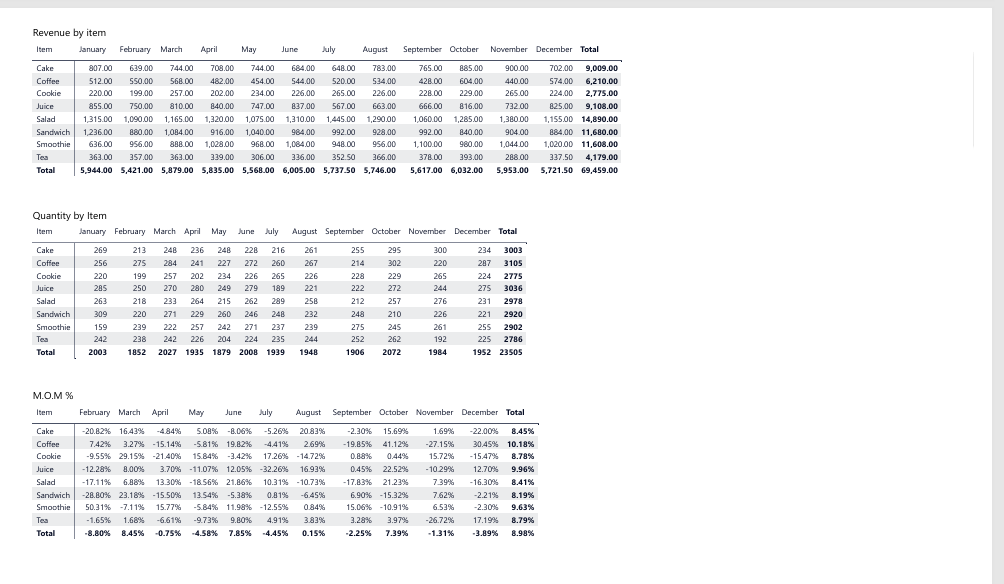

The page's visual inventory and layout, read from the dashboard file:
{"tool":"powerbi","page":{"name":"Page 2","canvas":[1280,720],"ordinal":1},"visuals":[{"type":"pivotTable","title":"Revenue by item","fields":{"Values":["Sum(cafe sales.total_spent)"],"Rows":["cafe sales.Item"],"Columns":["cafe sales.transaction_date.Variation.Date Hierarchy.Month"]},"box":[20.5,0,986.3,240],"z":0},{"type":"pivotTable","title":"M.O.M %","fields":{"Rows":["cafe sales.Item"],"Columns":["cafe sales.transaction_date.Variation.Date Hierarchy.Month"],"Values":["cafe sales.Sum of total_spent MoM%"]},"box":[20.5,484.4,986.3,235.6],"z":1},{"type":"pivotTable","title":"Quantity by Item","fields":{"Rows":["cafe sales.Item"],"Columns":["cafe sales.transaction_date.Variation.Date Hierarchy.Month"],"Values":["Sum(cafe sales.Quantity)"]},"box":[20.5,242.9,986.3,234.1],"z":2}]}

Visuals, with their boxes on the page's 1280x720 design canvas (x1, y1, x2, y2). These are canvas units, not pixel positions in the 1004x584 screenshot, which may show the page scaled, cropped or inside an application window:
"Revenue by item" pivotTable: bbox(20, 0, 1007, 240)
"M.O.M %" pivotTable: bbox(20, 484, 1007, 720)
"Quantity by Item" pivotTable: bbox(20, 243, 1007, 477)
